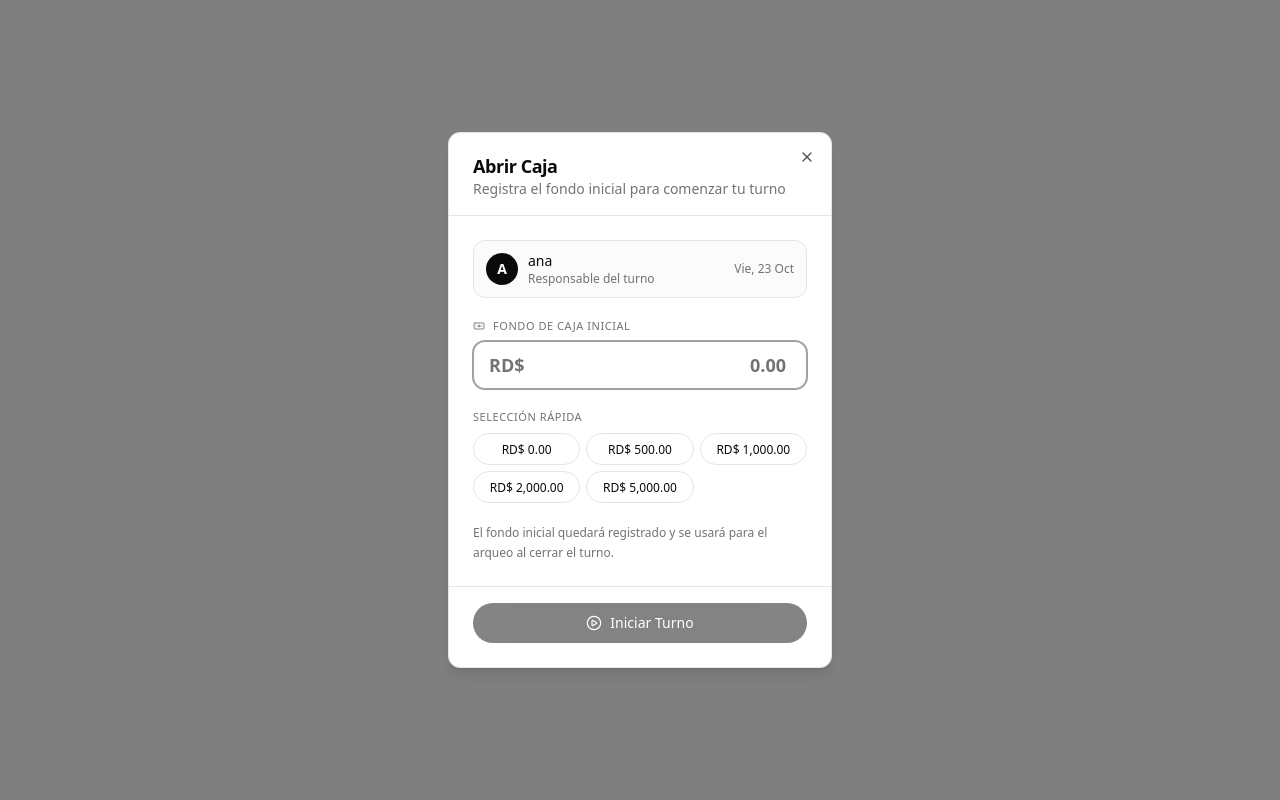
Test case: OpenShiftDialog › quick-select buttons fill the input
The image size is (1280, 800).
Click the button "RD$ 2,000.00" at (527, 487), box 473,471 -> 580,503
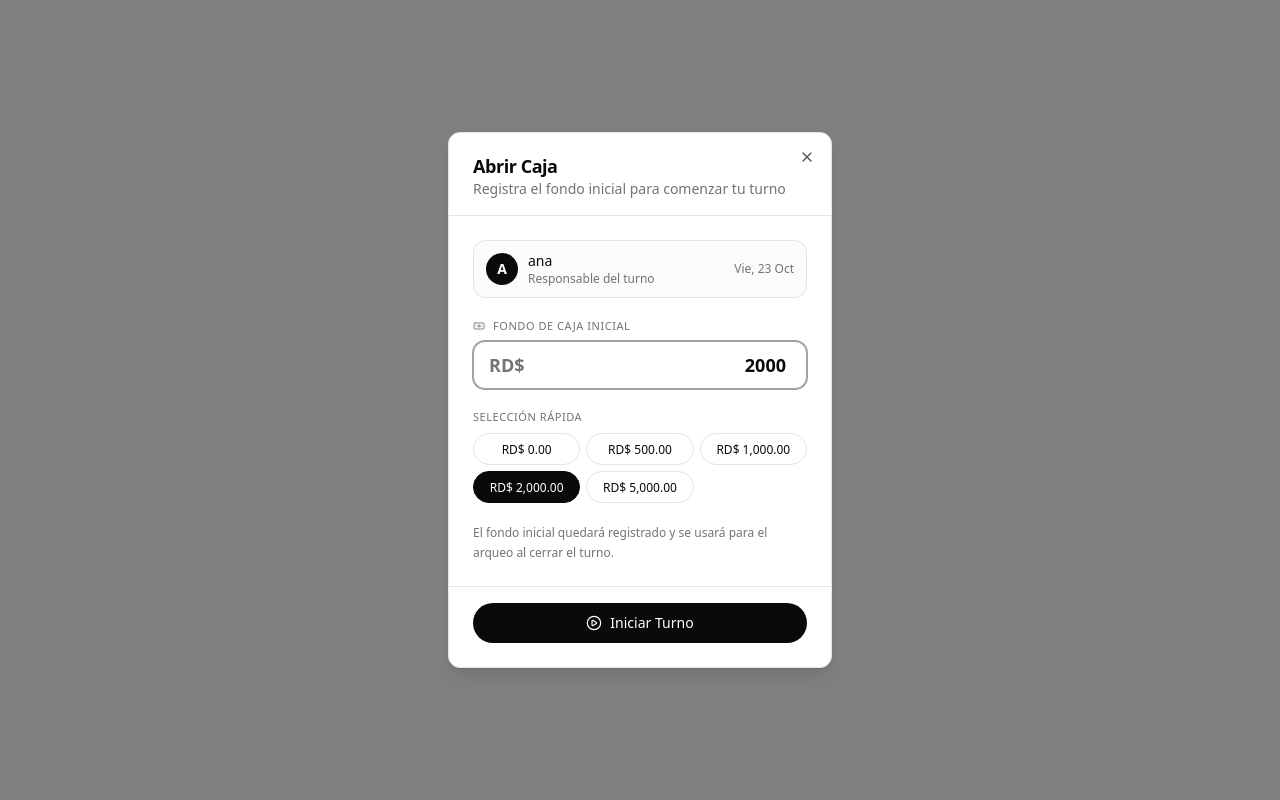
Now the field with placeholder "0.00" holds "2000", box 473,340 -> 807,388
Now the button "Iniciar Turno" is enabled, box 473,603 -> 807,643
